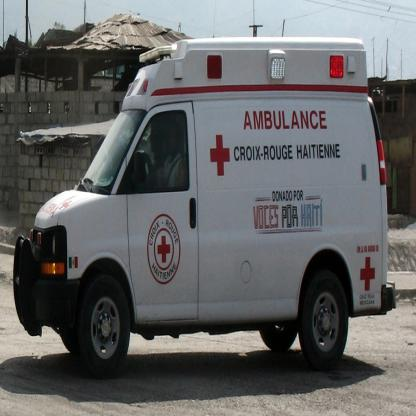Ambulance: (13, 37, 396, 380)
